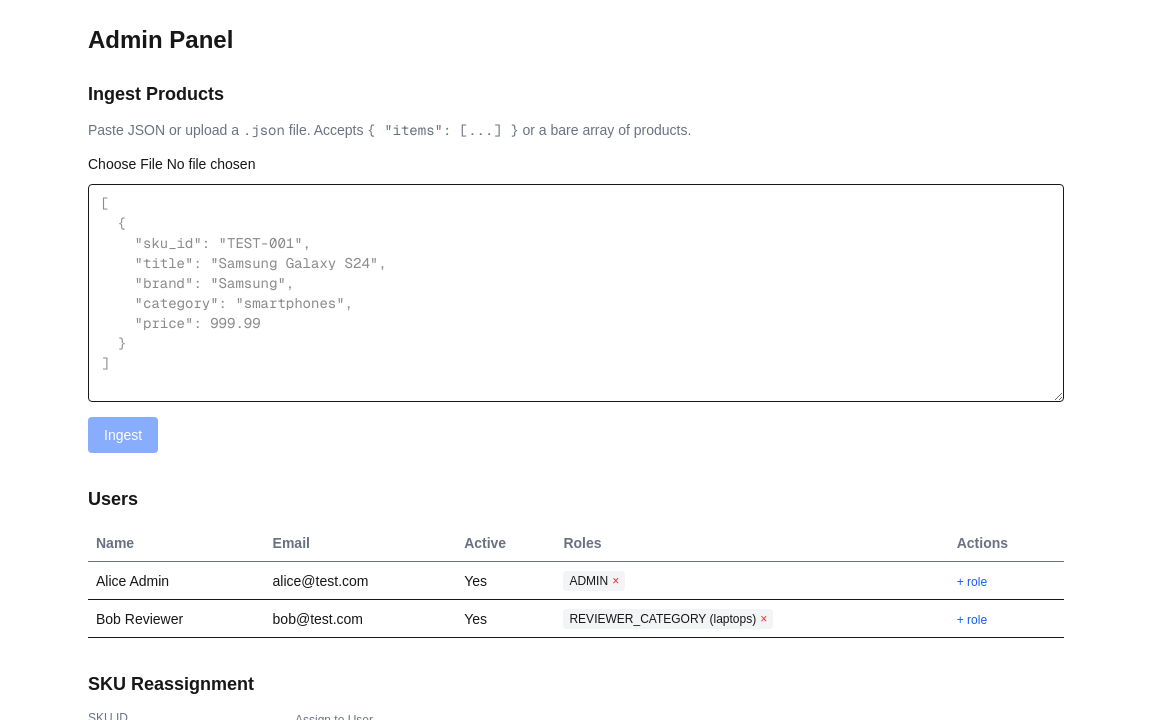
Admin Panel › category required for REVIEWER_CATEGORY
This screenshot has width=1152, height=720.
Click the button "+ role" in the row of "Alice Admin": (972, 582) [957,574,987,590]
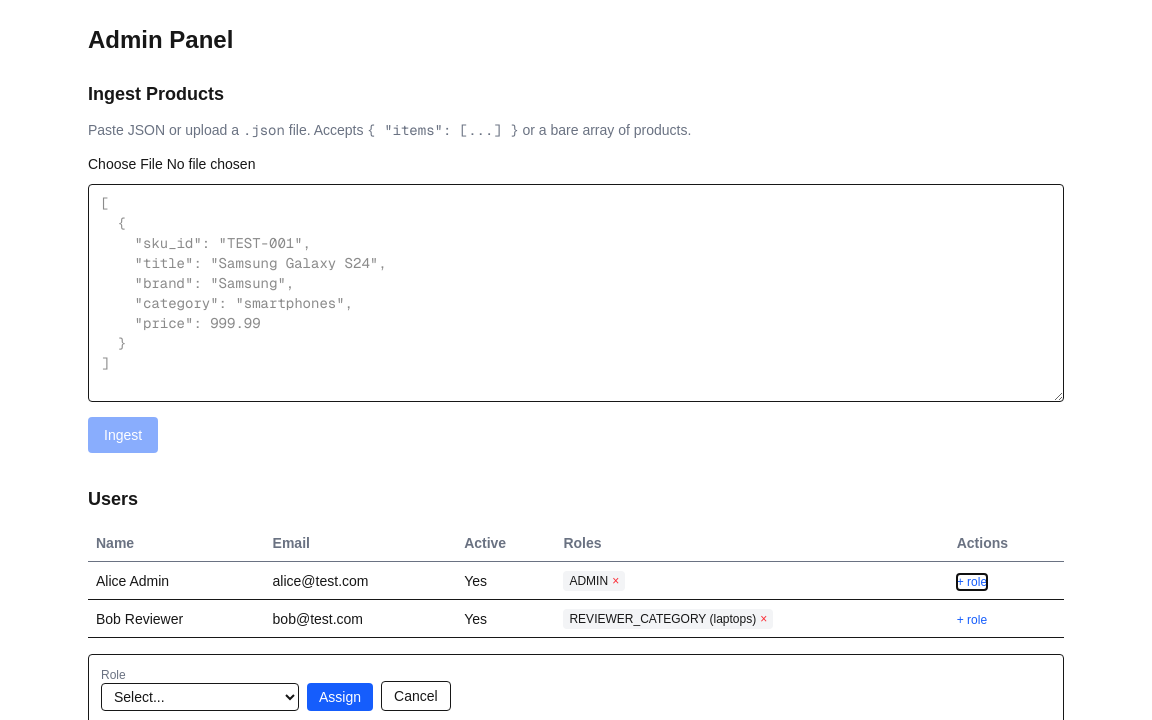
Note: Select REVIEWER_CATEGORY
Select "REVIEWER_CATEGORY" in the dropdown showing "Select...": (200, 697) [101,683,299,711]
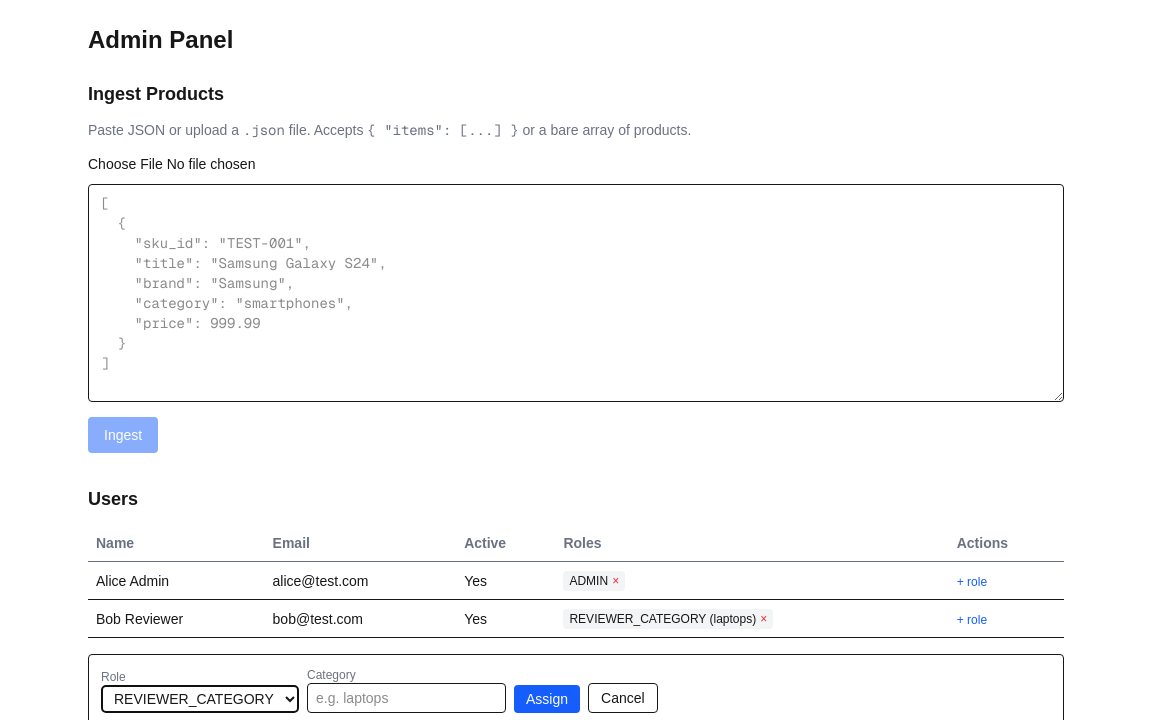
Now the field with placeholder "e.g. laptops" is shown, box [307,683,506,713]
